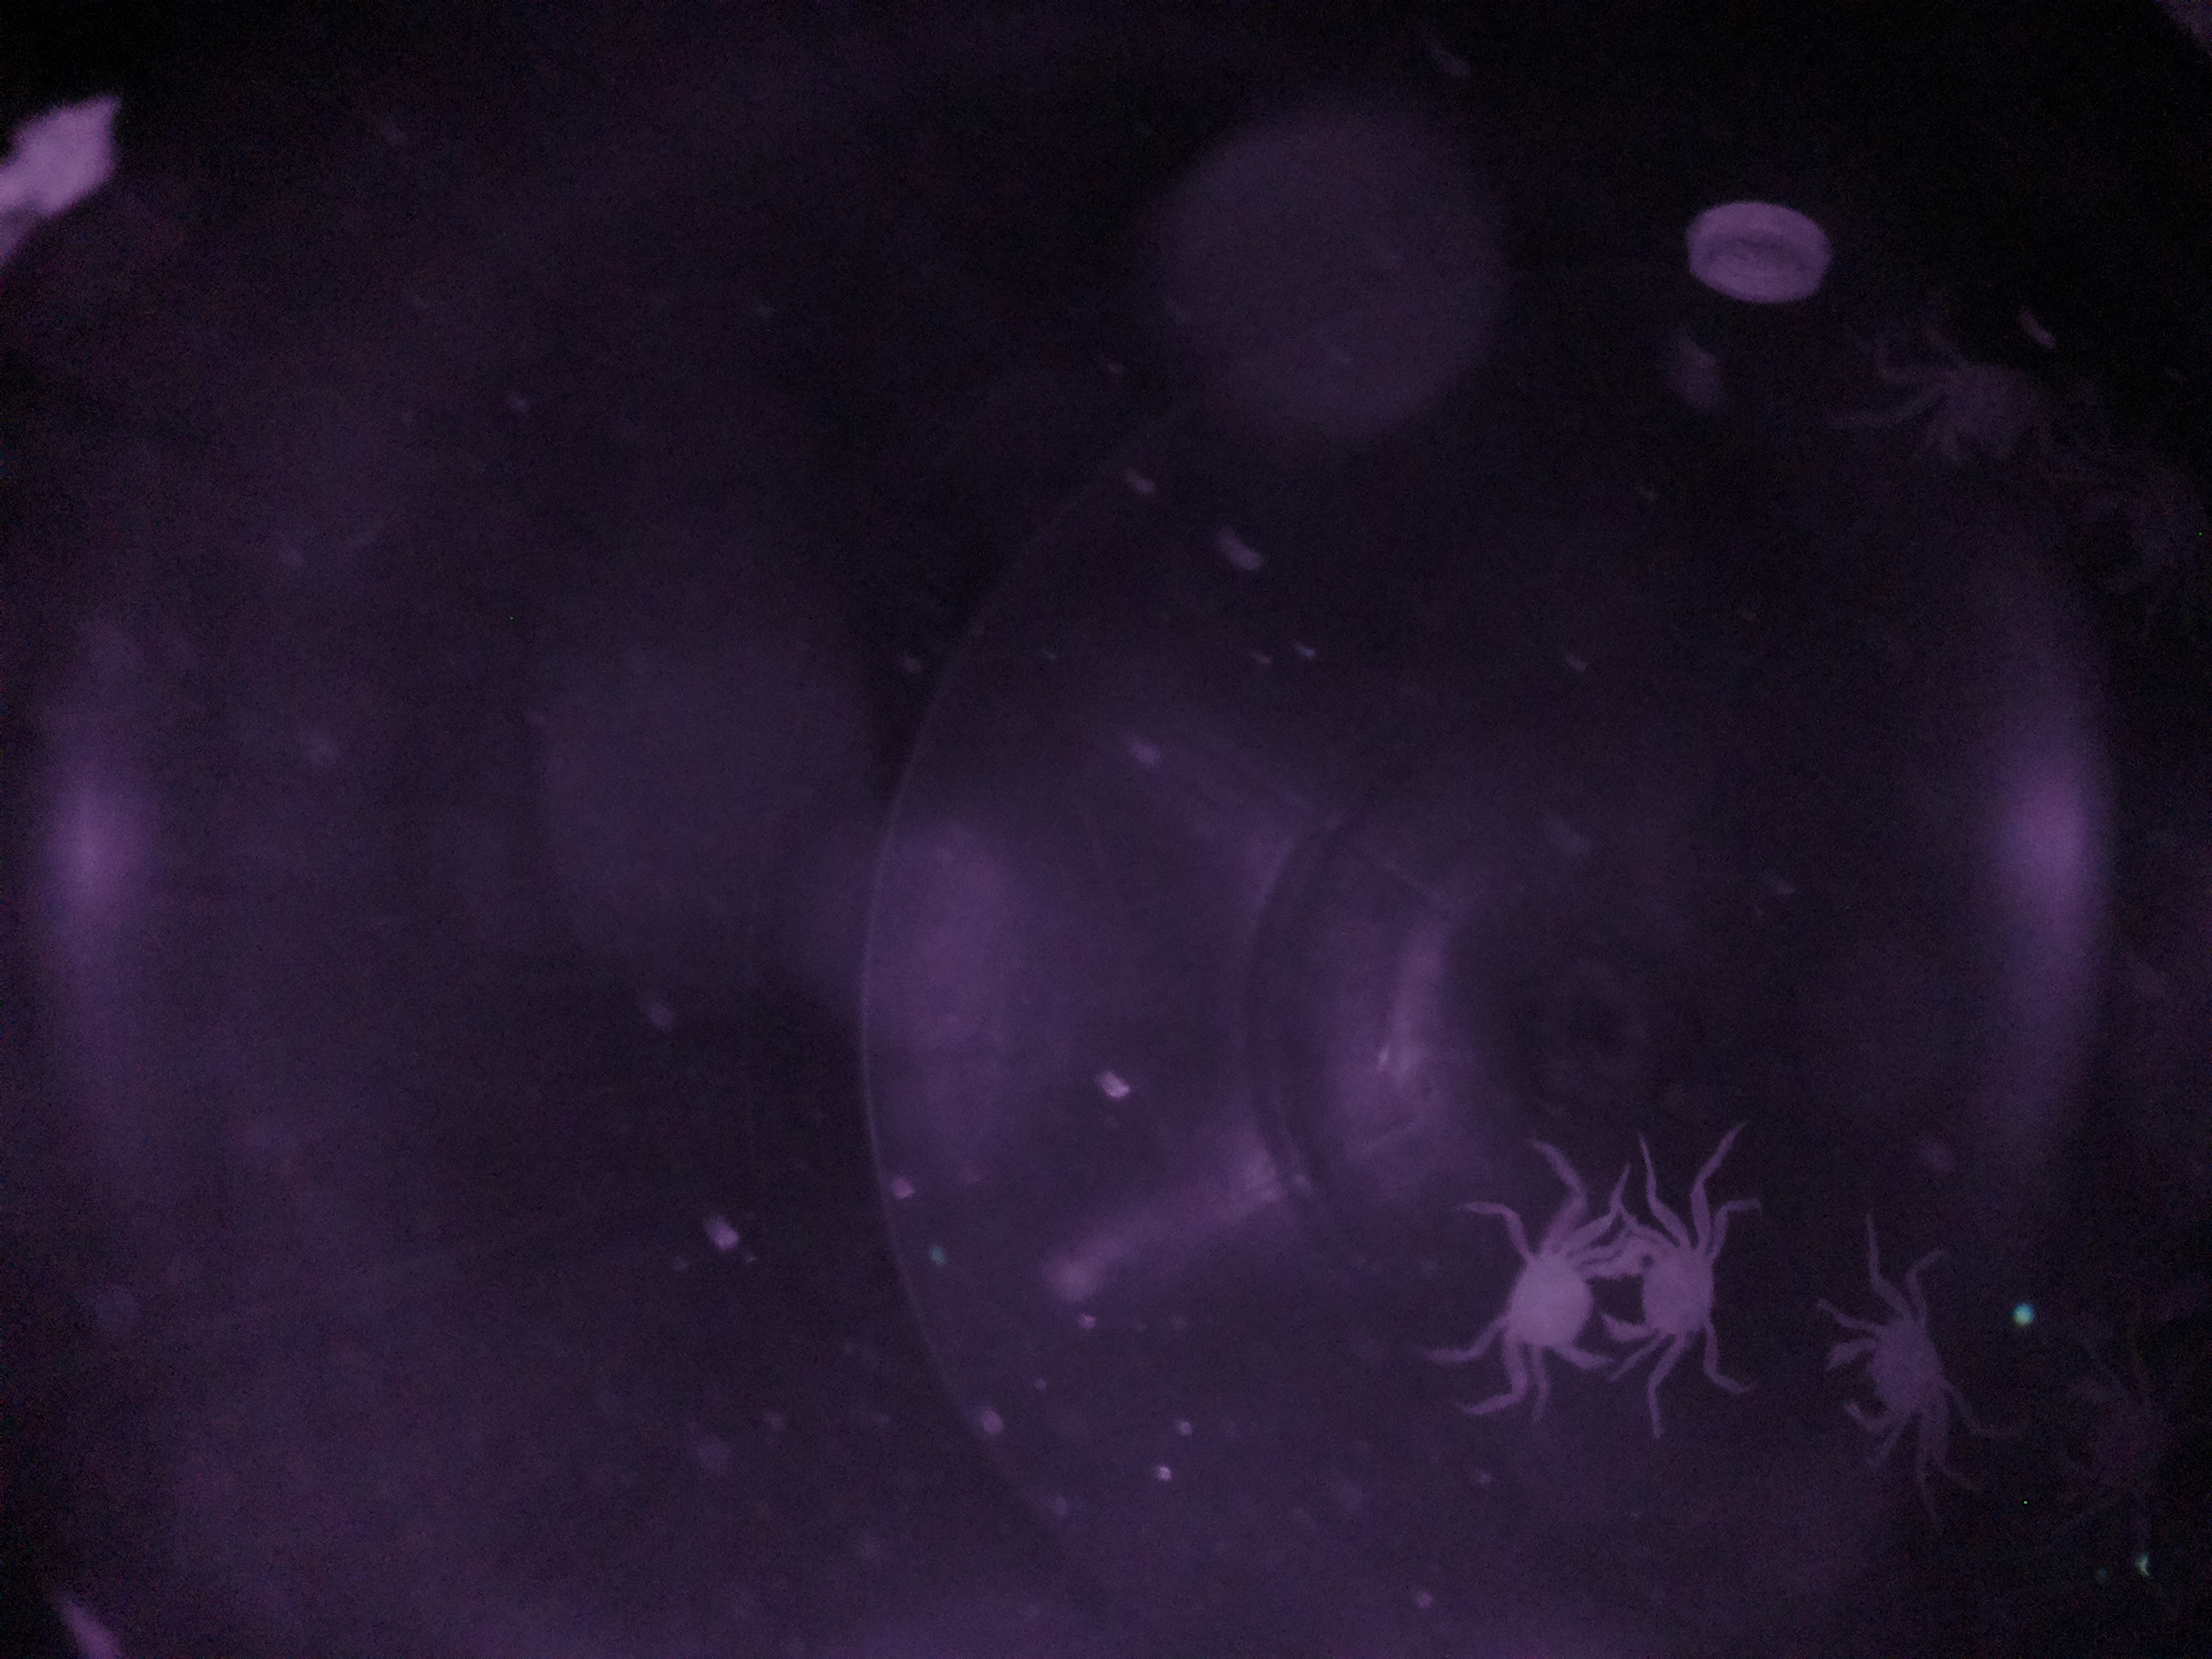Crab: (1613, 1185, 1757, 1417), (1458, 1176, 1608, 1396), (1804, 1281, 1977, 1471)
